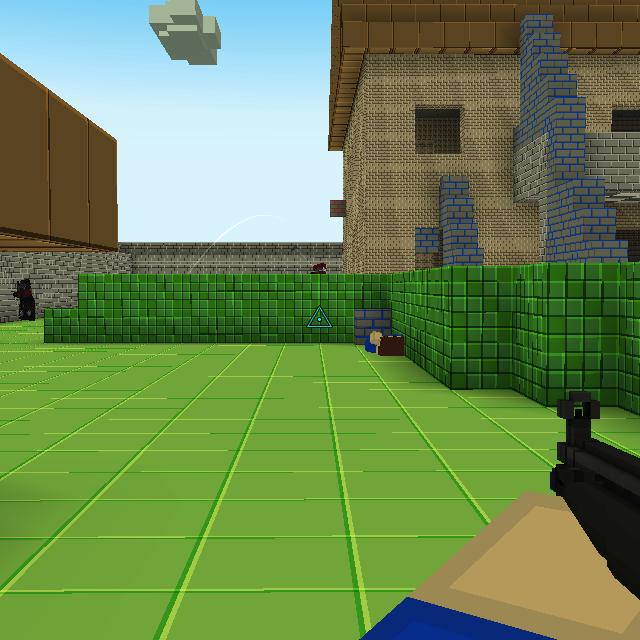enemy: (13, 278, 36, 322), (309, 262, 328, 274)
